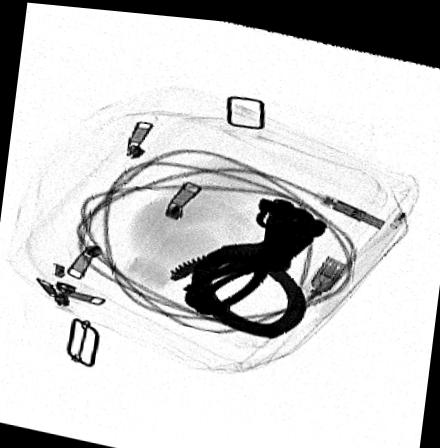HandCuffs: (166, 189, 328, 336)
